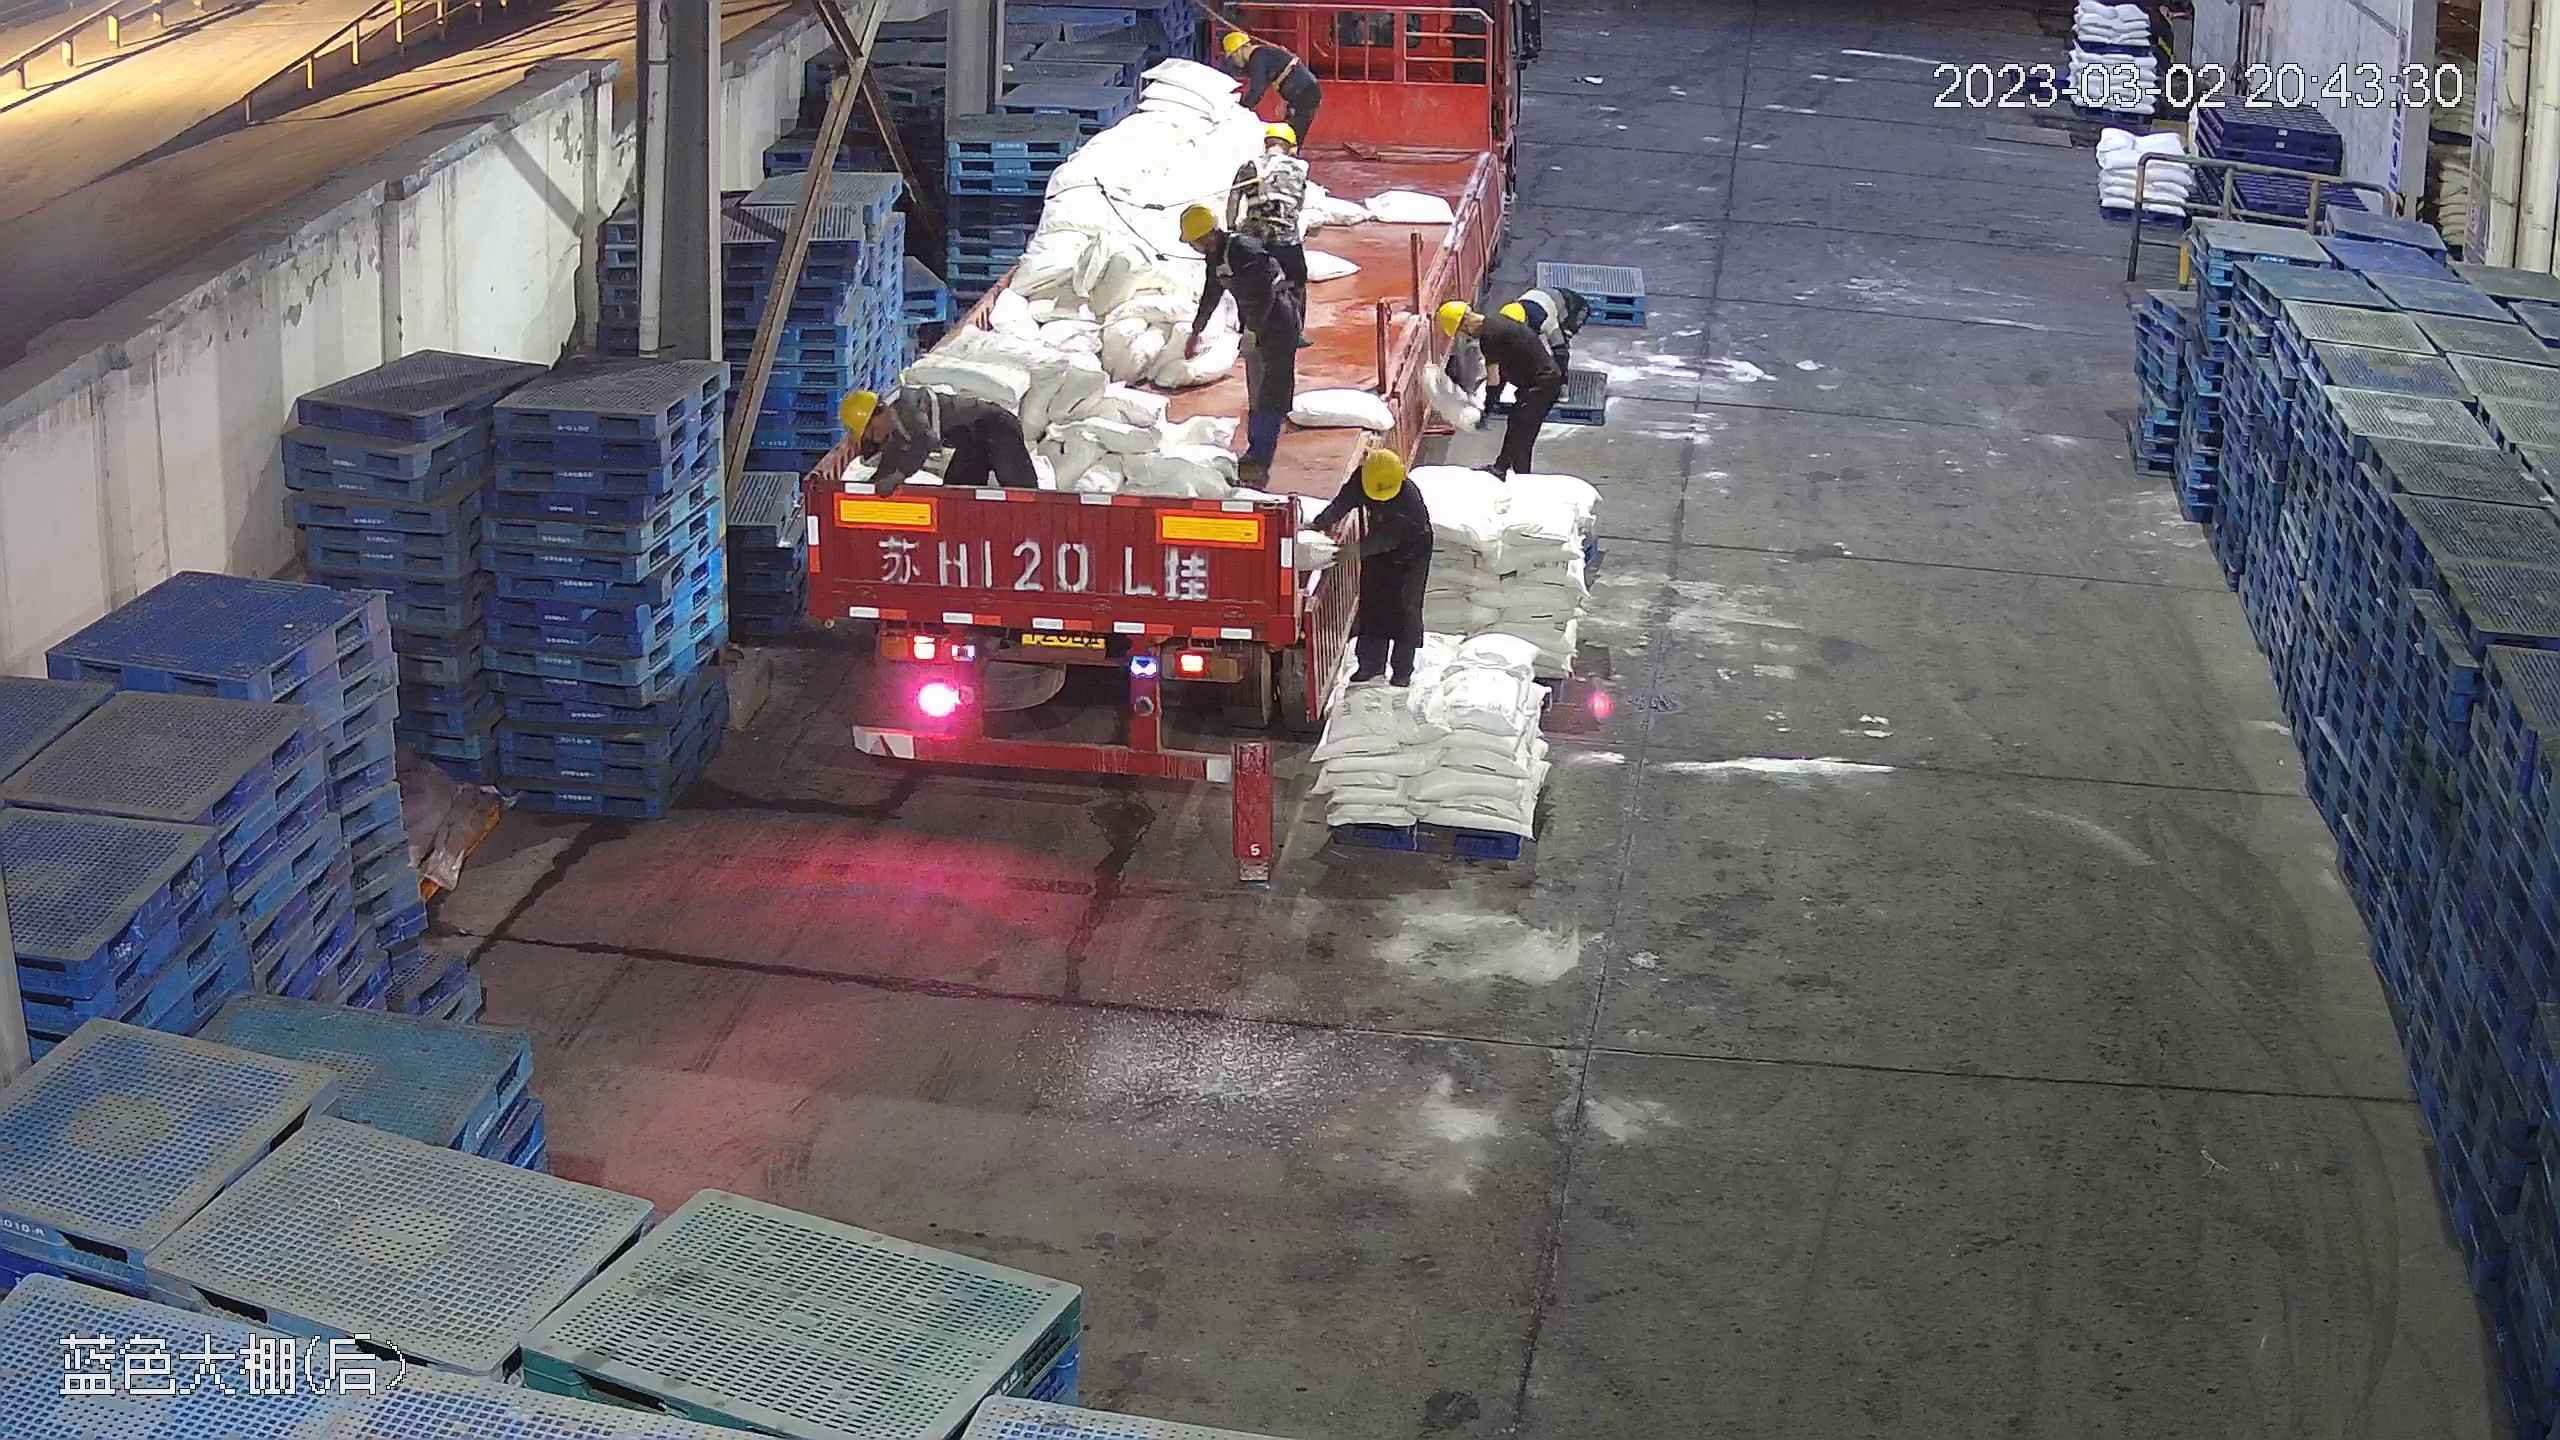belt: (1217, 219, 1290, 293), (877, 379, 948, 441), (1242, 164, 1295, 221), (1252, 42, 1306, 91)
head: (1180, 200, 1273, 278), (839, 384, 934, 457), (1338, 446, 1428, 523), (1238, 118, 1309, 197), (1449, 301, 1532, 361), (1220, 30, 1287, 80), (1220, 28, 1258, 65)
helmet: (1358, 445, 1408, 500), (837, 386, 878, 439), (1177, 201, 1220, 247), (1435, 299, 1467, 336), (1222, 28, 1256, 60), (1261, 121, 1297, 145), (1496, 302, 1529, 327)
people: (1172, 198, 1309, 479), (1302, 442, 1432, 698), (833, 382, 1030, 494), (1456, 300, 1566, 483), (1222, 28, 1324, 157)
truck: (820, 6, 1514, 796)
